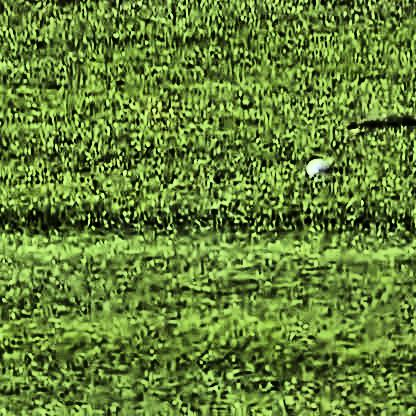golfball: (301, 156, 326, 180)
